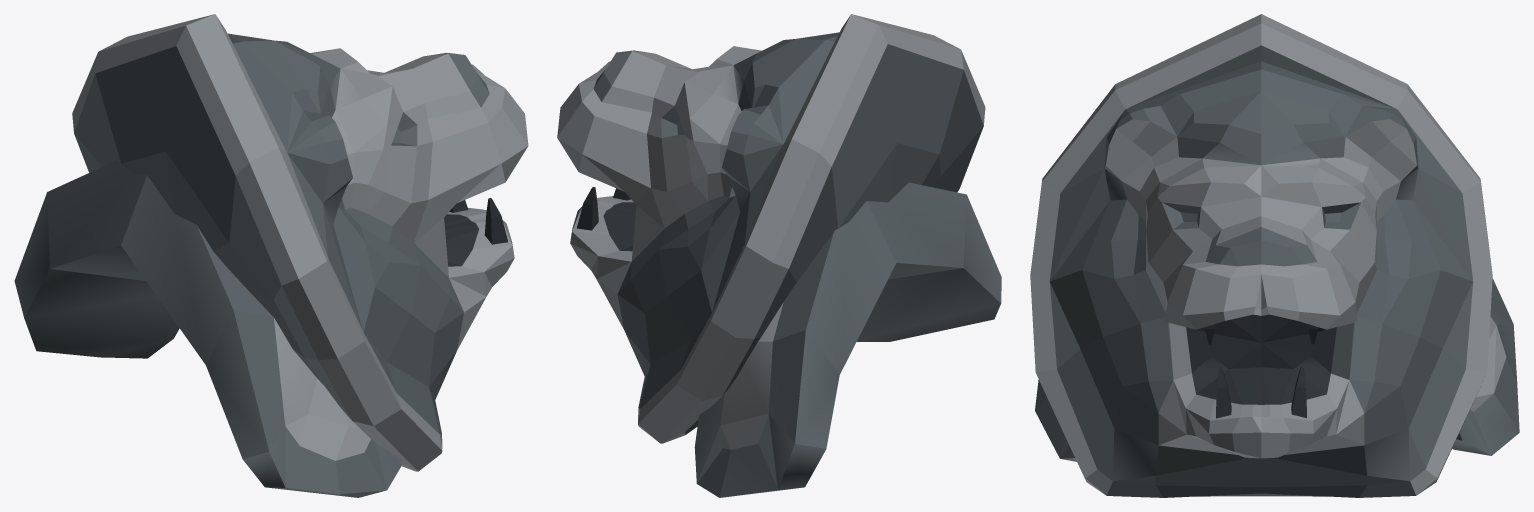
The model's file is Chr_ShoulderAttachLeft_18_Static.fbx.
3 views of the same model, side by side, from view 1: azimuth 30°, elevation 25°; view 2: azimuth 150°, elevation 25°; view 3: azimuth 270°, elevation 25° (orthographic). The views are drawn at different scales.
Visible parts, largest first — view 1: Chr_ShoulderAttachLeft_18_Static; view 2: Chr_ShoulderAttachLeft_18_Static; view 3: Chr_ShoulderAttachLeft_18_Static.
Part boxes in pixels (<box>): Chr_ShoulderAttachLeft_18_Static: <box>14,14,528,497</box>; Chr_ShoulderAttachLeft_18_Static: <box>557,14,1001,497</box>; Chr_ShoulderAttachLeft_18_Static: <box>1030,14,1519,497</box>.
Bounding box in the file's own units: 0.2754 × 0.3046 × 0.3227.
